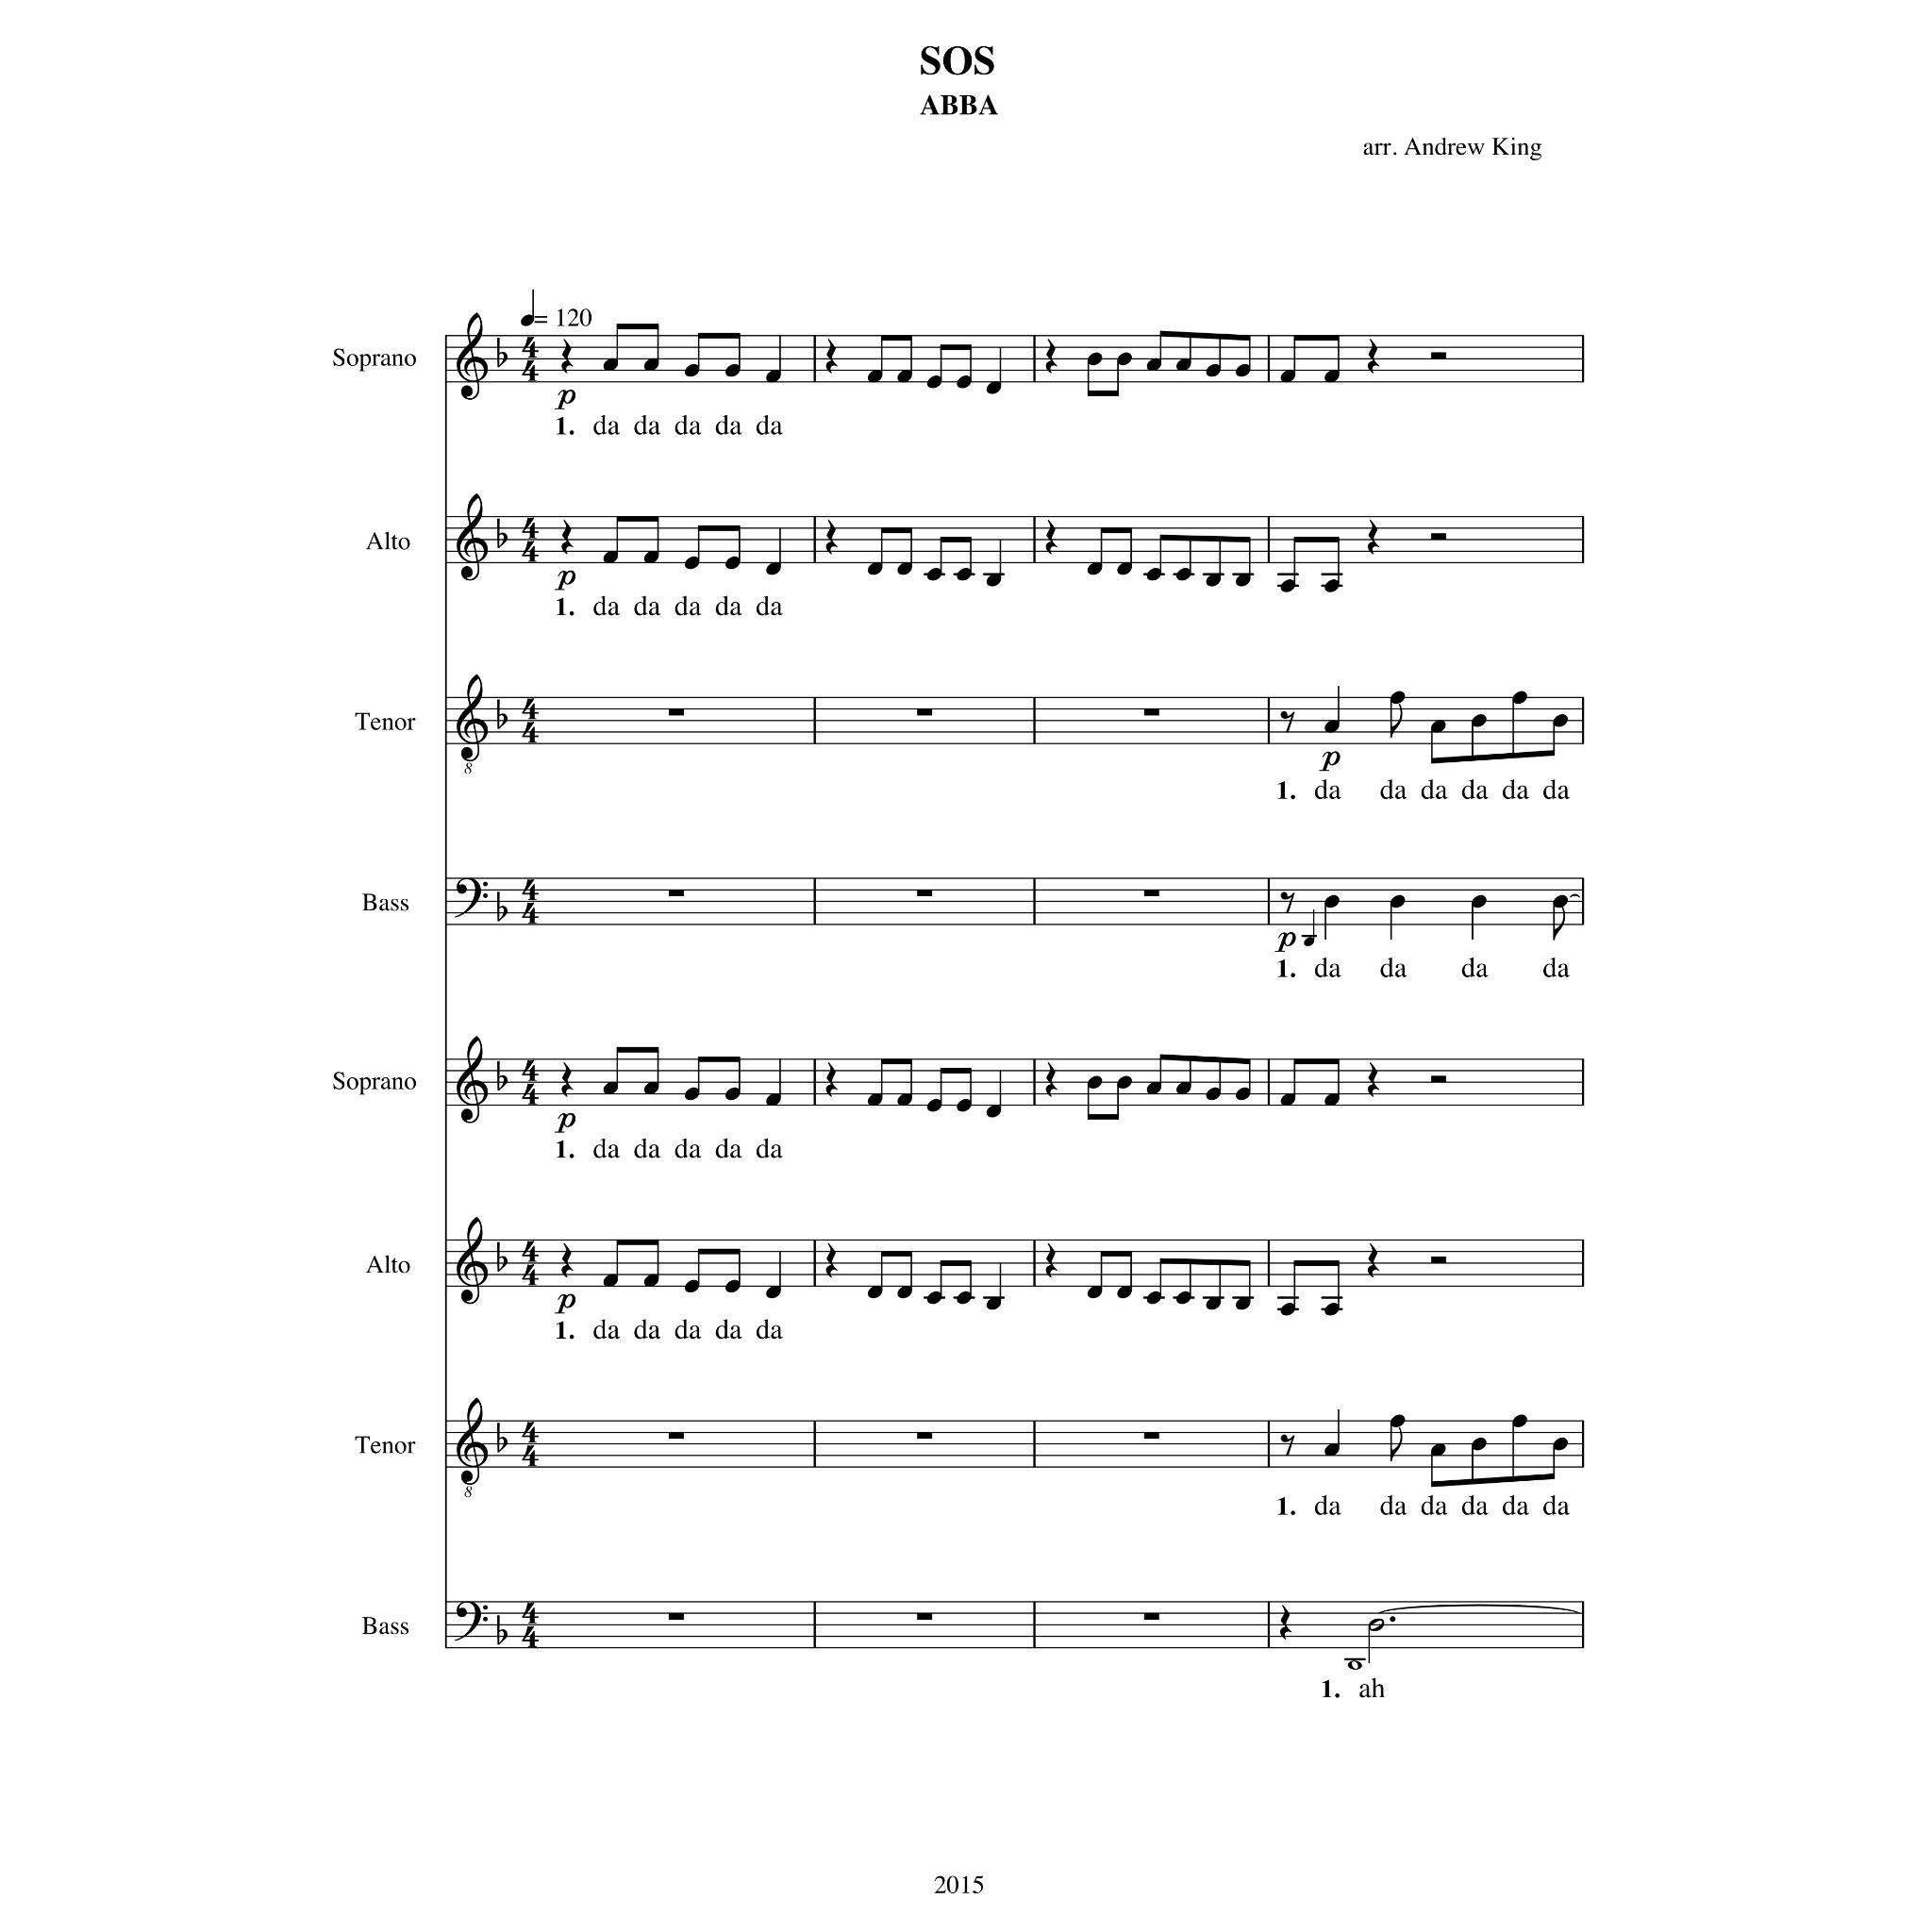fClef: (453, 878, 488, 918), (453, 1601, 488, 1642)
flag8thDown: (1553, 906, 1566, 941), (1391, 704, 1403, 738), (1391, 1428, 1403, 1461)
gClef: (456, 311, 488, 402), (456, 494, 488, 582), (456, 674, 488, 763), (456, 1035, 488, 1123), (456, 1215, 488, 1304), (456, 1398, 488, 1486)
noteheadBlack: (1511, 692, 1529, 706), (602, 550, 619, 564), (1323, 1302, 1339, 1316), (1323, 579, 1339, 593), (1323, 895, 1339, 909), (1177, 568, 1192, 582), (1177, 1292, 1192, 1306), (1146, 568, 1162, 582), (1146, 1292, 1162, 1306), (1279, 579, 1295, 593), (1279, 1302, 1295, 1316), (1205, 364, 1221, 379), (1205, 573, 1221, 587), (1205, 1088, 1221, 1102), (1205, 1297, 1221, 1311), (1235, 364, 1251, 379), (1235, 573, 1251, 587), (1235, 1088, 1251, 1102), (1235, 1297, 1251, 1311), (1389, 895, 1405, 909), (1389, 692, 1405, 706), (1552, 895, 1568, 909), (1472, 895, 1488, 909), (683, 1088, 699, 1102), (683, 364, 699, 379), (642, 550, 658, 564), (724, 364, 740, 379), (724, 1088, 740, 1102), (955, 375, 971, 389), (955, 568, 971, 582), (955, 1099, 971, 1113), (955, 1292, 971, 1306), (985, 380, 1001, 395), (985, 573, 1001, 587), (985, 1104, 1001, 1118), (985, 1297, 1001, 1311), (1086, 352, 1102, 366), (1086, 1076, 1102, 1090), (1116, 352, 1132, 366), (1116, 1076, 1132, 1090), (925, 375, 941, 389), (925, 568, 941, 582), (925, 1099, 941, 1113), (925, 1292, 941, 1306), (1511, 1415, 1529, 1428), (602, 359, 619, 372), (602, 1083, 619, 1095), (602, 1274, 619, 1286), (1323, 1444, 1339, 1456), (1323, 370, 1339, 382), (1323, 720, 1339, 732), (1323, 1093, 1339, 1106), (1177, 359, 1192, 372), (1177, 1083, 1192, 1095), (1146, 359, 1162, 372), (1146, 1083, 1162, 1095), (1279, 370, 1295, 382), (1279, 1093, 1295, 1106), (1389, 1415, 1405, 1428), (1430, 720, 1445, 732), (1430, 1444, 1445, 1456), (1552, 715, 1568, 727), (1552, 1438, 1568, 1451), (1472, 715, 1488, 727), (1472, 1438, 1488, 1451), (683, 1281, 699, 1293), (683, 557, 699, 570), (642, 359, 658, 372), (642, 1083, 658, 1095), (642, 1274, 658, 1286), (766, 1286, 782, 1299), (766, 1093, 782, 1106), (766, 563, 782, 575), (724, 557, 740, 570), (724, 1281, 740, 1293), (766, 370, 782, 382), (1086, 563, 1102, 575), (1086, 1286, 1102, 1299), (1116, 563, 1132, 575), (1116, 1286, 1132, 1299), (867, 370, 883, 382), (867, 563, 883, 575), (867, 1093, 883, 1106), (867, 1286, 883, 1299), (897, 370, 913, 382), (897, 563, 913, 575), (897, 1093, 913, 1106), (897, 1286, 913, 1299), (1304, 938, 1315, 948)
noteheadHalf: (1368, 1619, 1385, 1631)
noteheadWhole: (1346, 1660, 1362, 1670)
rest8th: (1281, 711, 1295, 734), (1281, 892, 1295, 915), (1281, 1433, 1295, 1456)
restHalf: (1430, 533, 1445, 541), (1430, 352, 1445, 359), (1430, 1076, 1445, 1083), (1430, 1256, 1445, 1263)
restQuarter: (1368, 338, 1380, 375), (824, 338, 837, 375), (561, 338, 573, 375), (1279, 1605, 1292, 1640), (1368, 1242, 1380, 1277), (1368, 1062, 1380, 1097), (1368, 520, 1380, 556), (824, 520, 837, 556), (824, 1062, 837, 1097), (824, 1242, 837, 1277), (561, 520, 573, 556), (561, 1062, 573, 1097), (561, 1242, 573, 1277), (1046, 338, 1056, 375), (1046, 1062, 1056, 1097), (1046, 520, 1056, 556), (1046, 1242, 1056, 1277)
restWhole: (916, 708, 932, 717), (916, 1431, 932, 1440), (1145, 1431, 1161, 1440), (1145, 708, 1161, 717), (669, 708, 685, 717), (669, 1431, 685, 1440), (916, 890, 932, 897), (1145, 1614, 1161, 1621), (1145, 890, 1161, 897), (916, 1614, 932, 1621), (669, 890, 685, 897), (669, 1614, 685, 1621)
